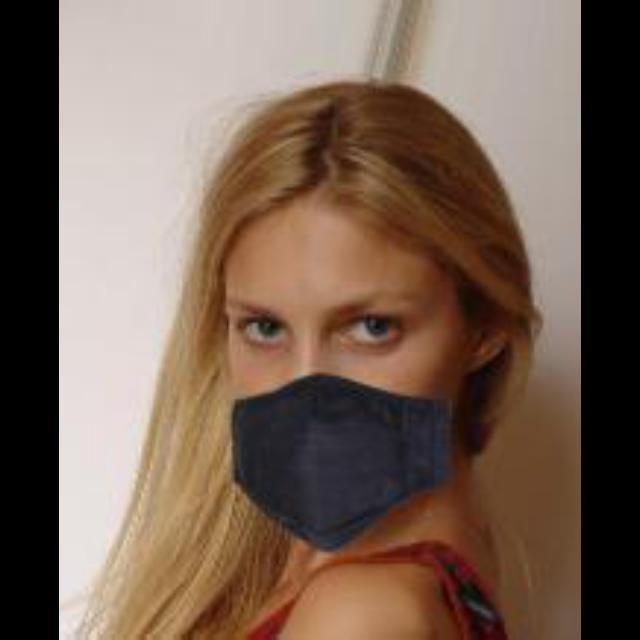suspicion: (152, 70, 474, 534)
